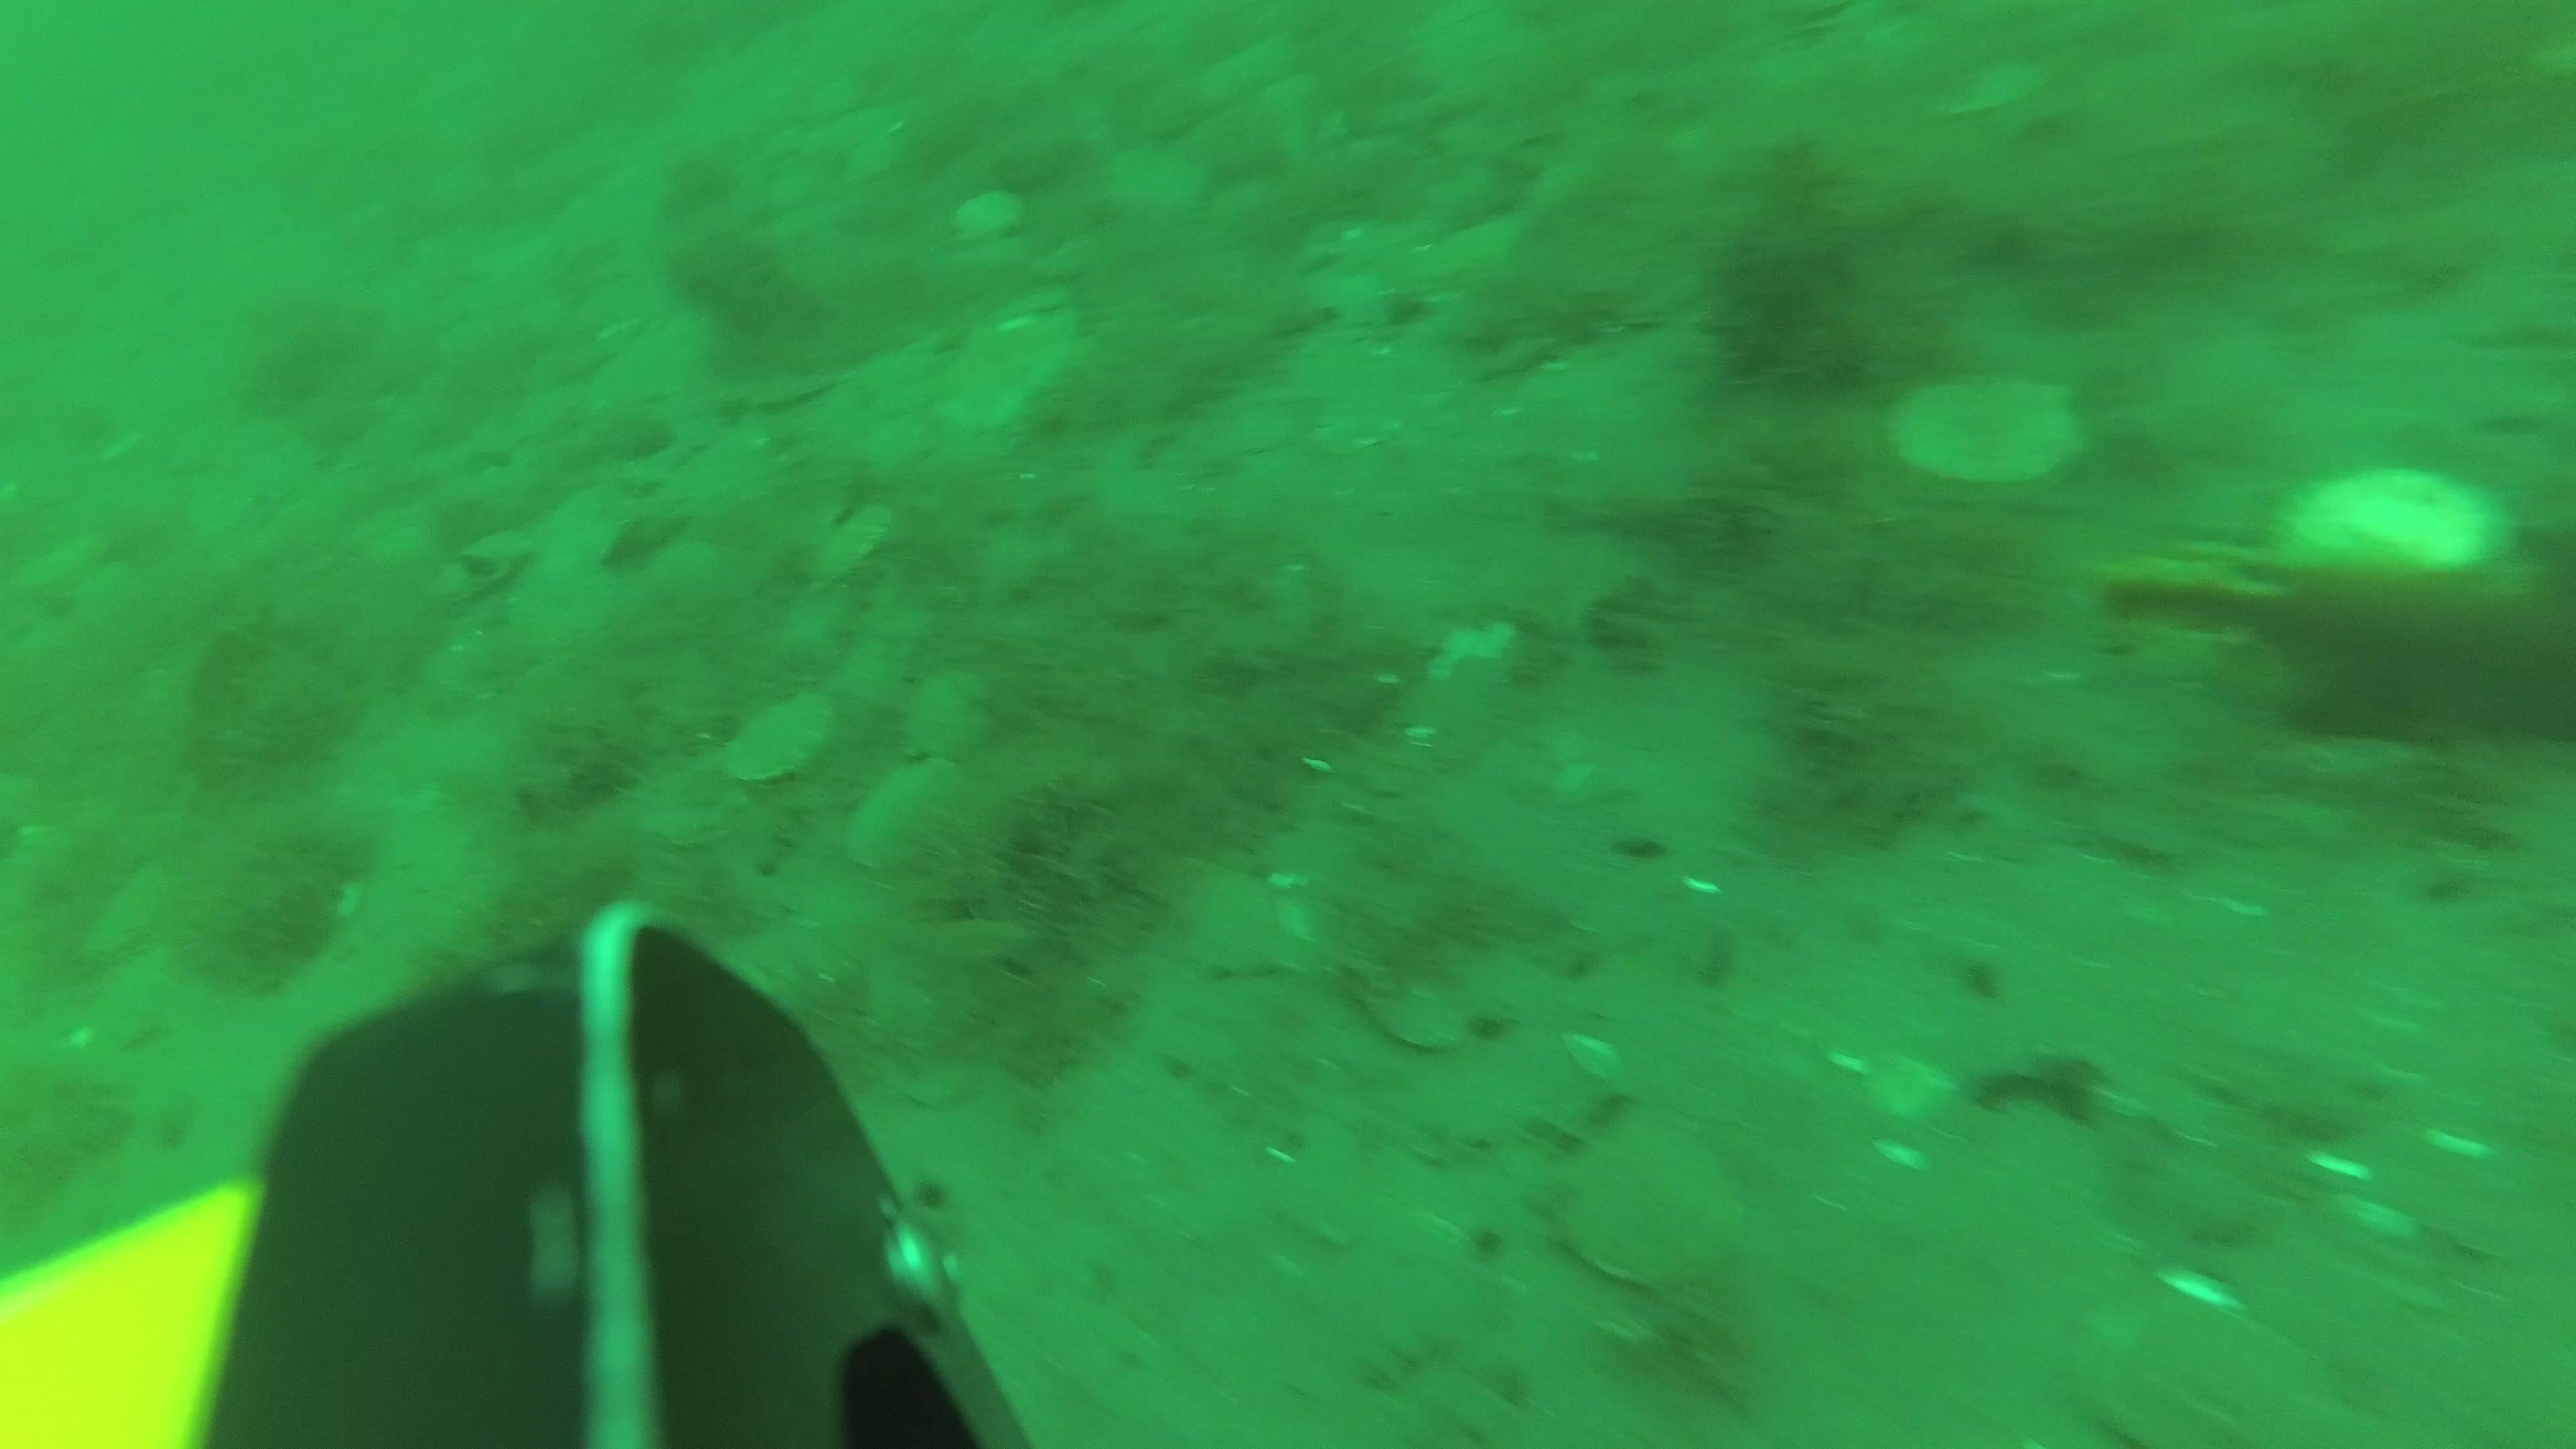scallop: (2102, 1297, 2319, 1449), (1571, 1122, 1752, 1288), (2295, 462, 2502, 587), (1895, 373, 2088, 492), (847, 759, 989, 890), (1189, 874, 1304, 977), (736, 692, 839, 787), (809, 499, 892, 594), (948, 189, 1033, 251)
starfish: (943, 304, 1069, 441)
